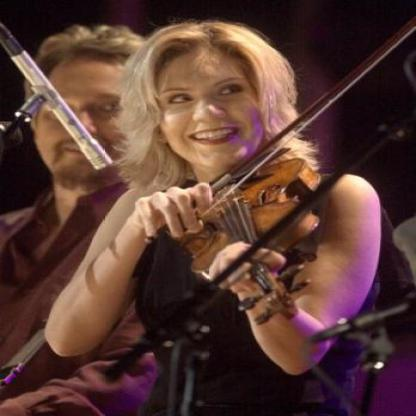face: (32, 29, 155, 186), (148, 27, 266, 172)
